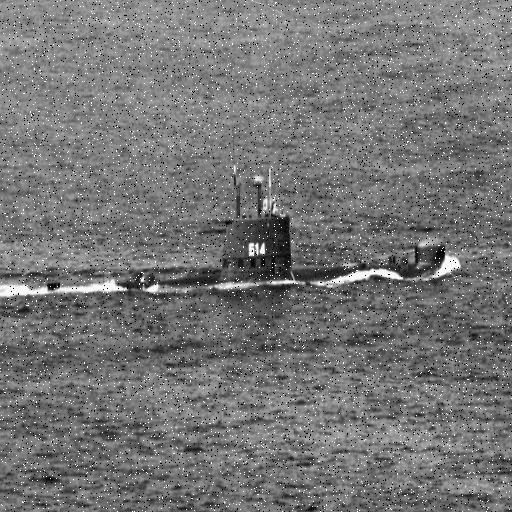submarine: (44, 155, 448, 294)
